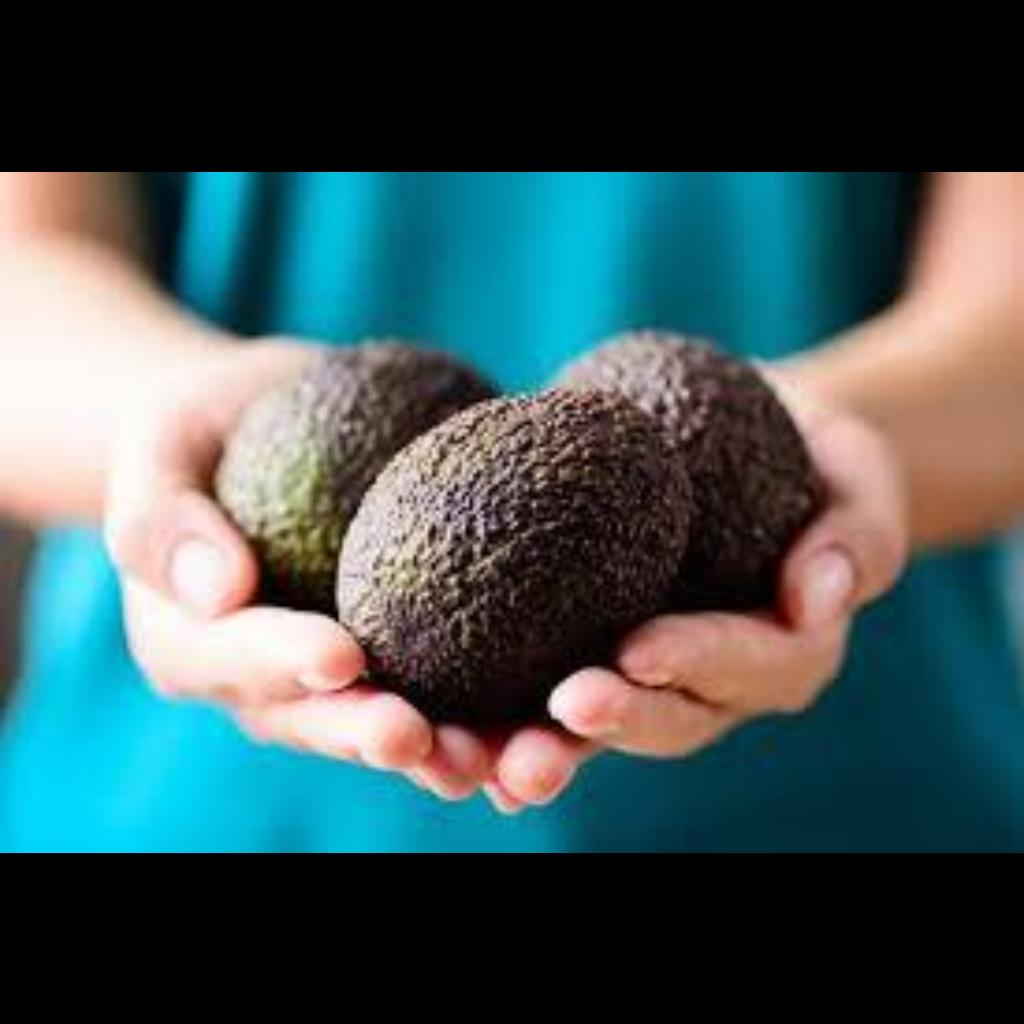antracnosis_fruto: (348, 354, 776, 592)
